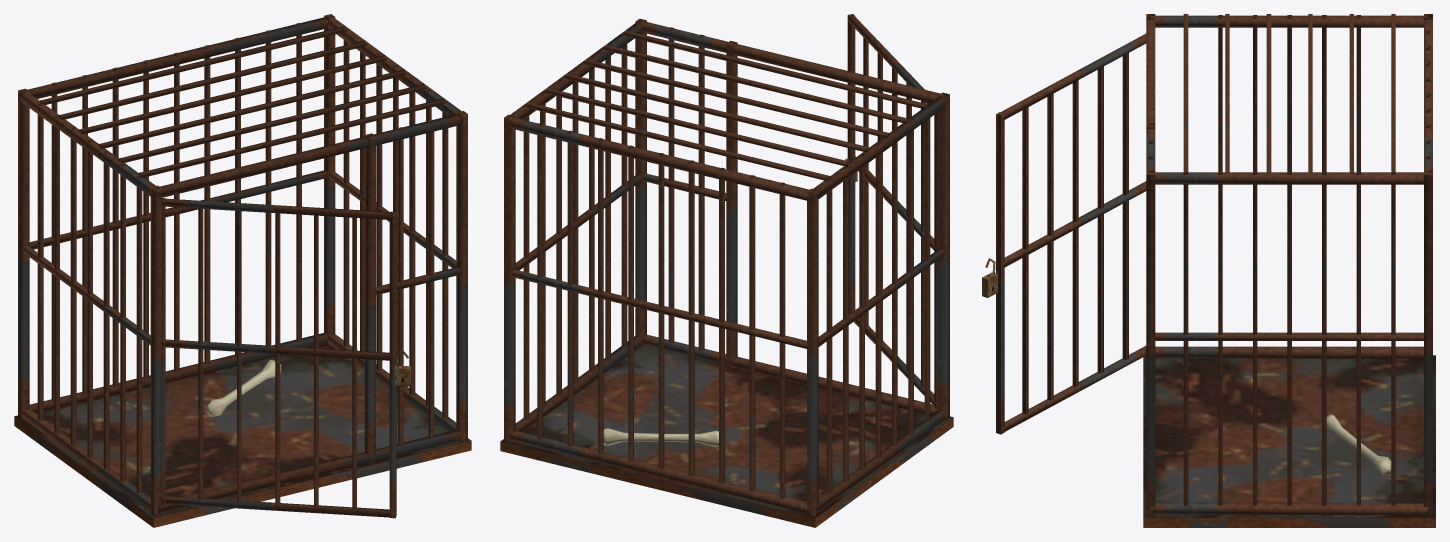
File: cage_metal.obj
The picture shows the model from 3 angles, left to right: view 1: azimuth 30°, elevation 25°; view 2: azimuth 150°, elevation 25°; view 3: azimuth 270°, elevation 25°; orthographic projection. The views are drawn at different scales.
Parts seen in each view (by area): view 1: cage_metal; view 2: cage_metal; view 3: cage_metal.
Part boxes in pixels (x1,y1,x2,y2): cage_metal: [14, 14, 471, 527]; cage_metal: [500, 14, 953, 527]; cage_metal: [982, 14, 1435, 527].
Bounding box in the file's own units: 1.04 × 1.06 × 1.23.
Materials: 1 (1 with a texture image).
